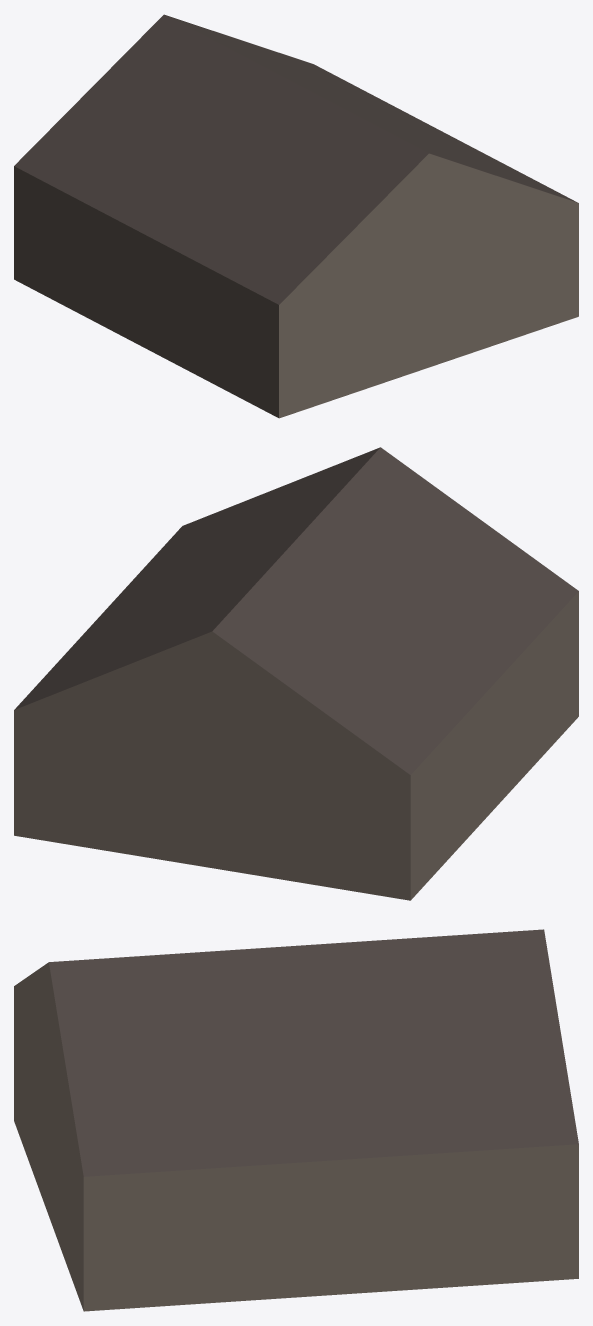
3 views of the same model, one above another, from view 1: azimuth 30°, elevation 25°; view 2: azimuth 150°, elevation 25°; view 3: azimuth 270°, elevation 25° (orthographic). The views are drawn at different scales.
Visible parts, largest first — view 1: HP-w858807465; view 2: HP-w858807465; view 3: HP-w858807465.
Part boxes in pixels (x1,y1,x2,y2): HP-w858807465: (14,14,578,418); HP-w858807465: (14,447,578,900); HP-w858807465: (14,929,578,1311).
Size of the model in its own units: 10.67 by 5.66 by 11.41.
